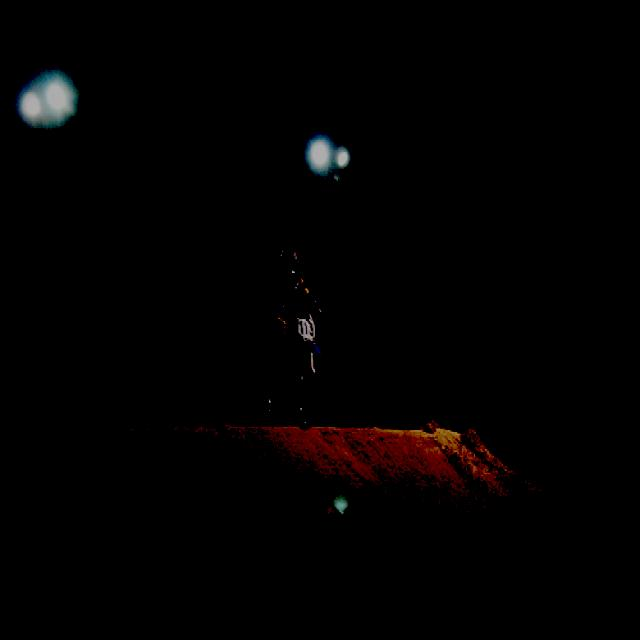Motorbike: (235, 294, 324, 431)
